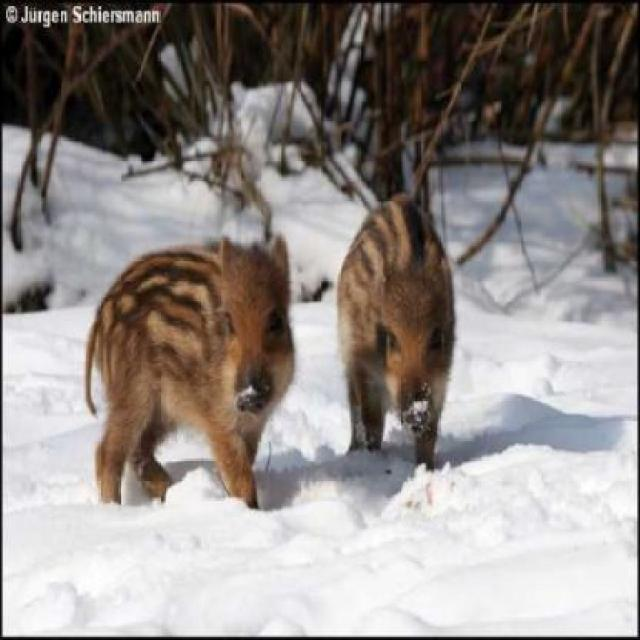pig: (117, 206, 341, 509), (314, 168, 515, 459)
